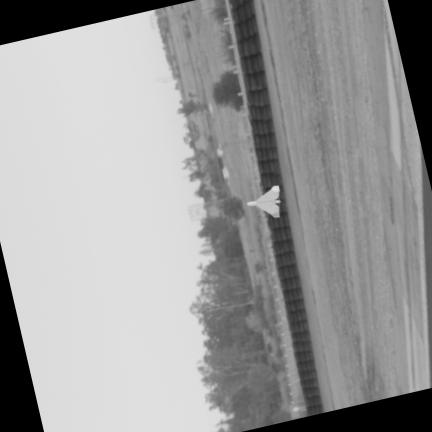Shahed: (248, 185, 279, 216)
